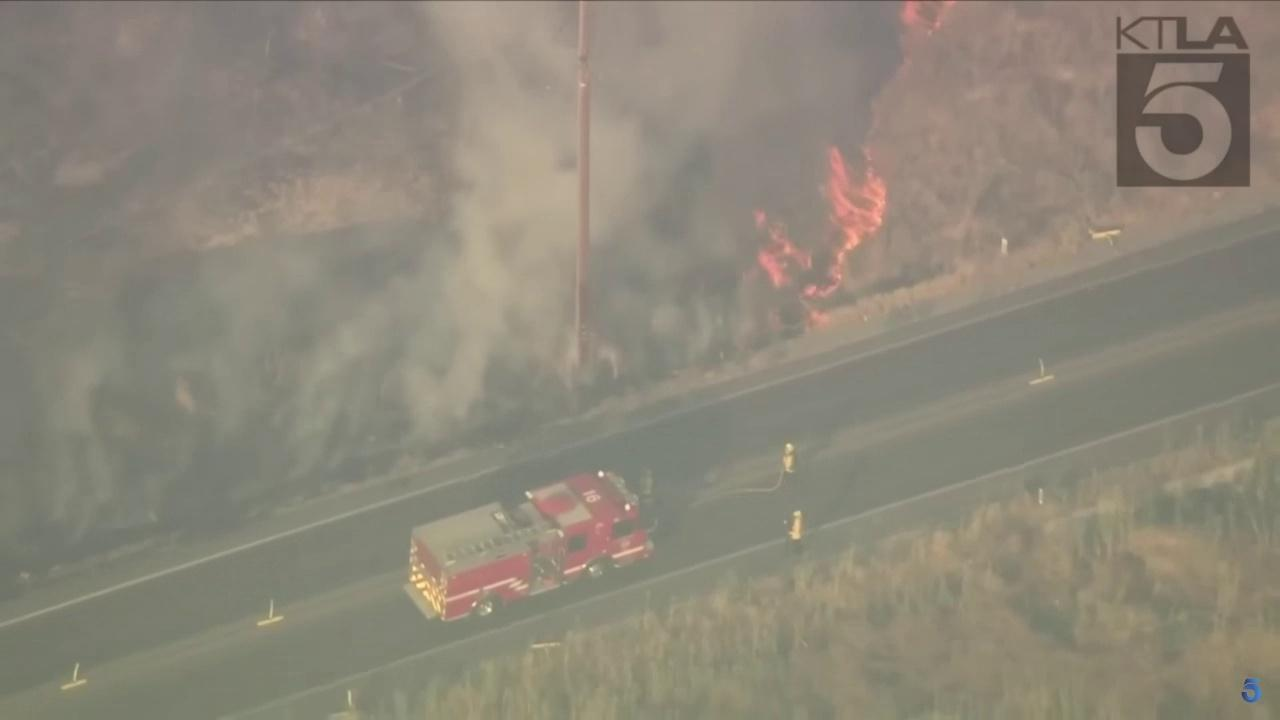fire: (801, 144, 887, 338), (748, 208, 813, 290), (898, 0, 960, 35)
smoke: (0, 0, 910, 559)
